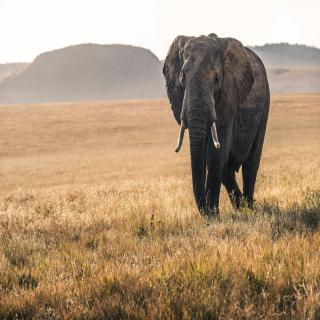Elephant: (159, 32, 272, 222)
